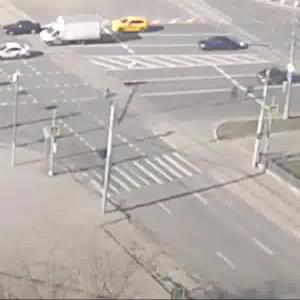car: (42, 18, 100, 48), (199, 35, 255, 54), (253, 67, 300, 89), (1, 43, 37, 66), (108, 18, 148, 34), (4, 21, 39, 37)
